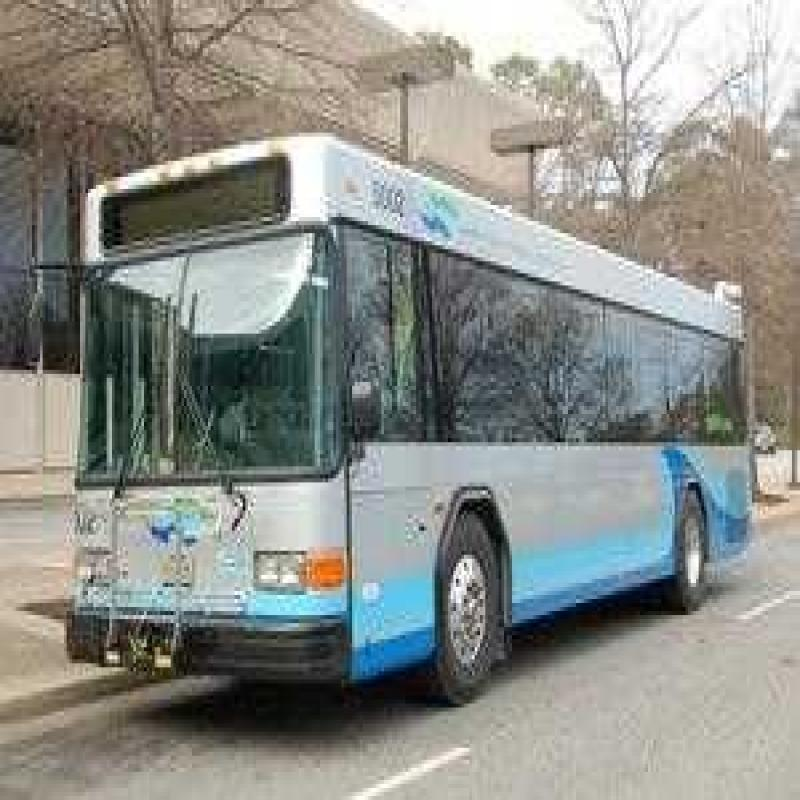bus: (69, 131, 770, 777)
